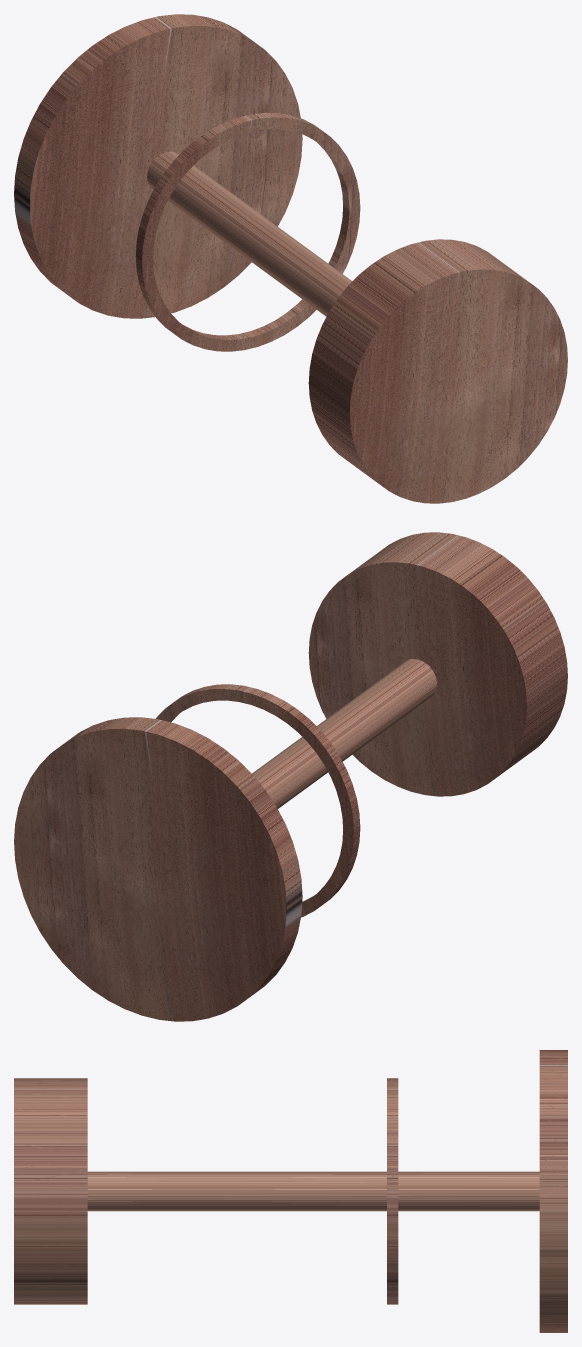
The model's file is bar_stool.dae.
3 renders of one model, top to bottom at view 1: azimuth 30°, elevation 25°; view 2: azimuth 150°, elevation 25°; view 3: azimuth 270°, elevation 25°, orthographic. The views are drawn at different scales.
Parts seen in each view (by area): view 1: node; view 2: node; view 3: node.
Part boxes in pixels (left/top/right/bottom): node: left=14, top=14, right=567, bottom=503; node: left=14, top=532, right=567, bottom=1021; node: left=14, top=1050, right=567, bottom=1332.
Bounding box in the file's own units: 500 × 499 × 979.
Materials: 1 (1 with a texture image).
